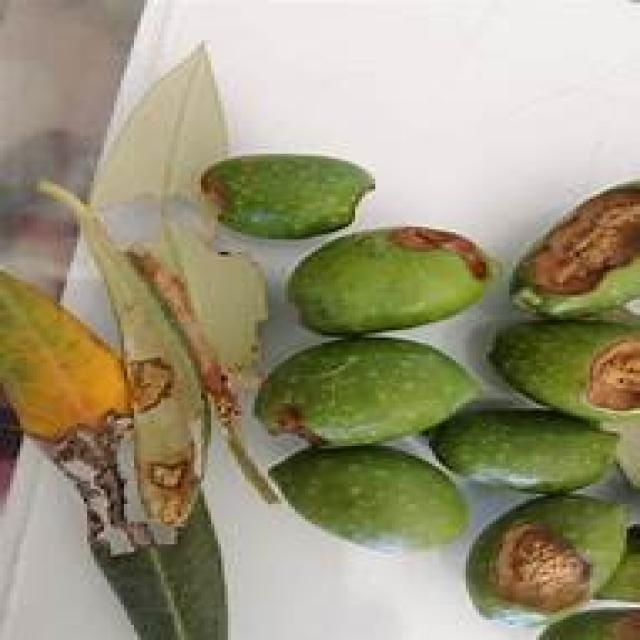Anthracnose: (288, 227, 489, 340), (466, 497, 626, 622), (255, 338, 439, 443), (512, 182, 636, 318), (492, 320, 636, 421), (204, 154, 372, 237)
OlivePeacockSpot: (0, 272, 201, 635)
